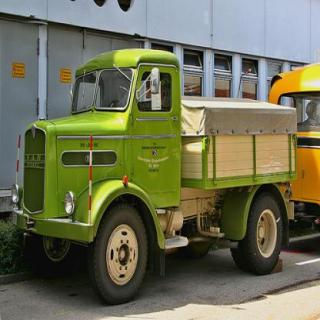Normal_vehicle: (11, 47, 300, 300)
